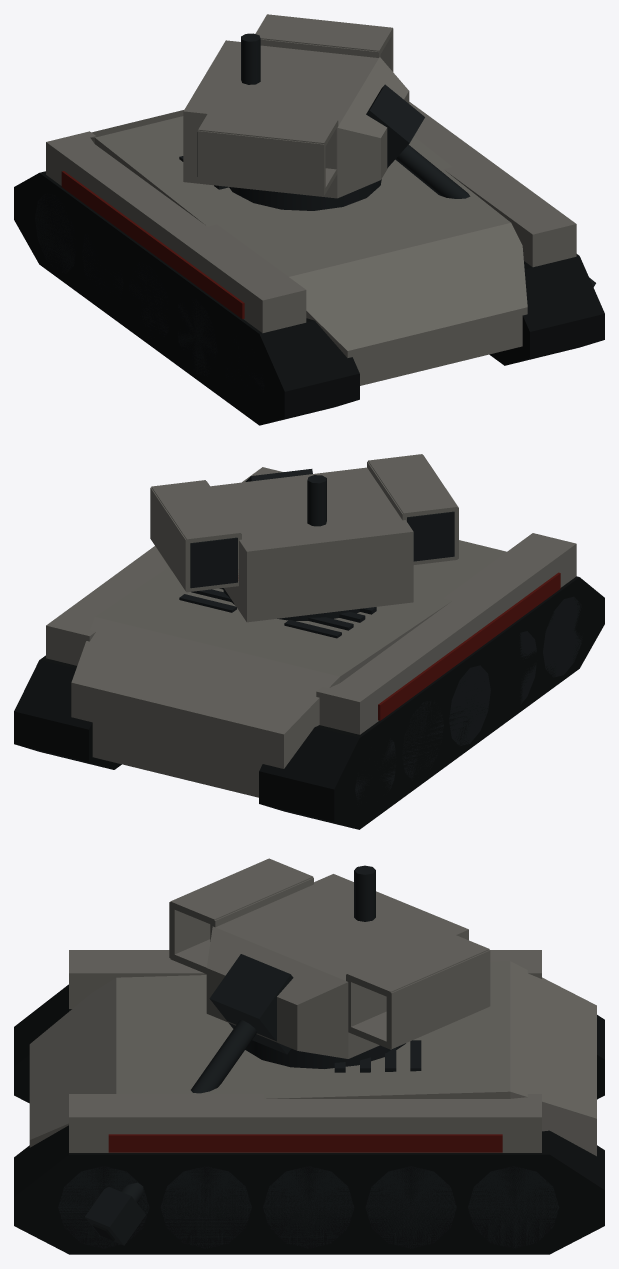
3 views of the same model, one above another, from view 1: azimuth 30°, elevation 25°; view 2: azimuth 150°, elevation 25°; view 3: azimuth 270°, elevation 25° (orthographic). The views are drawn at different scales.
Visible parts, largest first — view 1: drone-tank-fleet-armor, drone-tank-fleet-rubber, turret-fleet-armor, launcher--1-fleet-armor, launcher-1-fleet-armor, barrel-fleet-machine, drone-tank-fleet-red, drone-tank-fleet-machine, wheel--1-0-fleet-machine, wheel--1-3-fleet-machine, turret-fleet-machine, wheel--1-2-fleet-machine; view 2: drone-tank-fleet-armor, drone-tank-fleet-rubber, turret-fleet-armor, launcher-1-fleet-armor, launcher--1-fleet-armor, drone-tank-fleet-red, wheel--1-2-fleet-machine, wheel--1-4-fleet-machine, launcher-1-fleet-machine, drone-tank-fleet-machine, launcher--1-fleet-machine, turret-fleet-machine (+2 smaller); view 3: drone-tank-fleet-armor, drone-tank-fleet-rubber, turret-fleet-armor, launcher-1-fleet-armor, barrel-fleet-machine, drone-tank-fleet-red, launcher--1-fleet-armor, wheel-1-1-fleet-machine, wheel-1-2-fleet-machine, wheel-1-3-fleet-machine, wheel-1-0-fleet-machine, wheel-1-4-fleet-machine (+2 smaller).
Part boxes in pixels (<box>): drone-tank-fleet-armor: <box>46,102,576,385</box>; drone-tank-fleet-rubber: <box>14,171,604,425</box>; turret-fleet-armor: <box>183,40,409,198</box>; launcher--1-fleet-armor: <box>198,106,338,195</box>; launcher-1-fleet-armor: <box>255,14,393,71</box>; barrel-fleet-machine: <box>366,84,595,287</box>; drone-tank-fleet-red: <box>61,171,244,319</box>; drone-tank-fleet-machine: <box>179,156,381,210</box>; wheel--1-0-fleet-machine: <box>35,193,75,273</box>; wheel--1-3-fleet-machine: <box>178,299,217,376</box>; turret-fleet-machine: <box>241,33,260,84</box>; wheel--1-2-fleet-machine: <box>129,262,168,338</box>; drone-tank-fleet-armor: <box>46,467,576,797</box>; drone-tank-fleet-rubber: <box>14,576,604,829</box>; turret-fleet-armor: <box>210,467,413,622</box>; launcher-1-fleet-armor: <box>150,480,241,592</box>; launcher--1-fleet-armor: <box>367,454,458,564</box>; drone-tank-fleet-red: <box>378,572,560,720</box>; wheel--1-2-fleet-machine: <box>449,665,490,745</box>; wheel--1-4-fleet-machine: <box>543,596,582,677</box>; launcher-1-fleet-machine: <box>190,537,237,588</box>; drone-tank-fleet-machine: <box>179,588,376,638</box>; launcher--1-fleet-machine: <box>407,511,454,561</box>; turret-fleet-machine: <box>307,475,326,526</box>; drone-tank-fleet-armor: <box>29,950,596,1156</box>; drone-tank-fleet-rubber: <box>14,984,604,1254</box>; turret-fleet-armor: <box>206,874,468,1058</box>; launcher-1-fleet-armor: <box>346,931,490,1049</box>; barrel-fleet-machine: <box>85,954,293,1245</box>; drone-tank-fleet-red: <box>108,1134,502,1152</box>; launcher--1-fleet-armor: <box>169,858,313,973</box>; wheel-1-1-fleet-machine: <box>365,1166,456,1248</box>; wheel-1-2-fleet-machine: <box>263,1166,354,1248</box>; wheel-1-3-fleet-machine: <box>160,1166,251,1248</box>; wheel-1-0-fleet-machine: <box>468,1166,559,1248</box>; wheel-1-4-fleet-machine: <box>58,1166,149,1248</box>.
Size of the model in its own units: 15.06 by 10.44 by 19.87.
